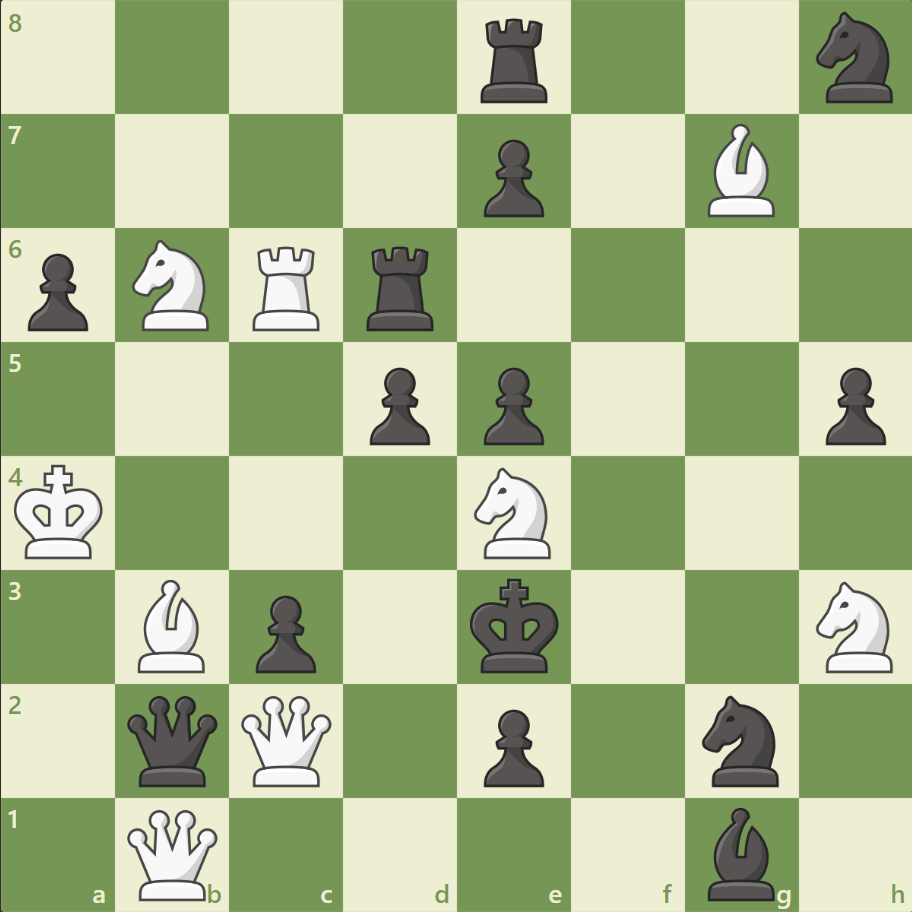B: (698, 120, 782, 222), (131, 574, 215, 676)
K: (11, 458, 111, 566)
N: (124, 234, 222, 337), (465, 461, 562, 564), (806, 575, 903, 677)
Q: (237, 690, 336, 789), (124, 804, 223, 903)
R: (246, 239, 329, 336)
b: (698, 801, 782, 904)
k: (465, 571, 565, 679)
n: (806, 7, 903, 110), (692, 688, 789, 791)
p: (474, 132, 549, 223), (20, 246, 95, 337), (474, 359, 549, 450), (247, 586, 322, 677), (474, 700, 549, 791), (361, 359, 435, 450), (815, 359, 889, 450)
q: (124, 690, 223, 789)
r: (473, 12, 556, 109), (360, 239, 442, 336)
